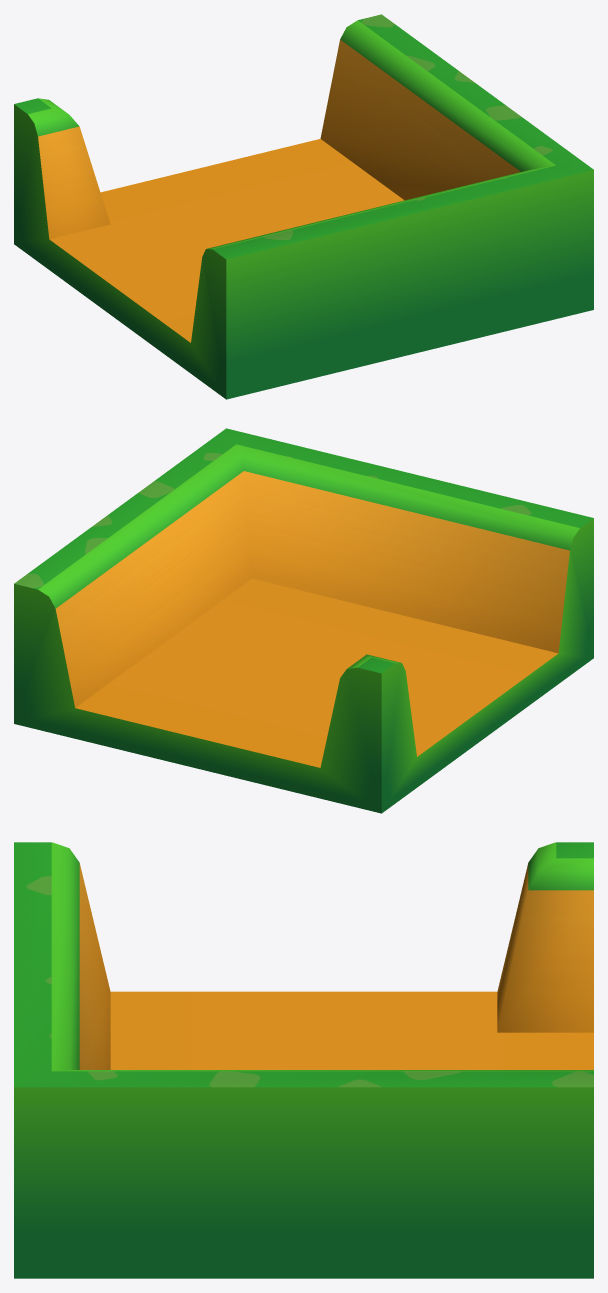
The model's file is RiverTile_2_1.fbx.
3 renders of one model, top to bottom at view 1: azimuth 30°, elevation 25°; view 2: azimuth 150°, elevation 25°; view 3: azimuth 270°, elevation 25°, orthographic. The views are drawn at different scales.
Parts seen in each view (by area): view 1: RiverTile_2_1; view 2: RiverTile_2_1; view 3: RiverTile_2_1.
Part boxes in pixels (bbox=[...]): RiverTile_2_1: bbox=[14, 14, 593, 399]; RiverTile_2_1: bbox=[14, 428, 593, 813]; RiverTile_2_1: bbox=[14, 842, 593, 1278].
Size of the model in its own units: 400 by 146 by 400.
